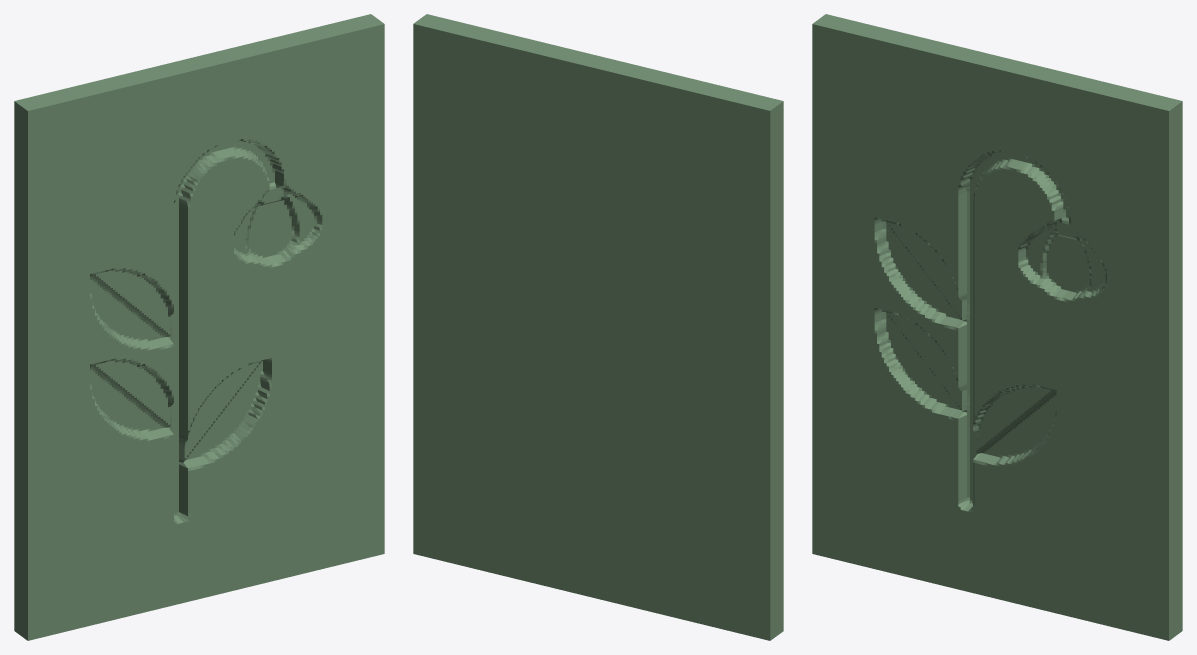
The model's file is snowdrop.glb.
The picture shows the model from 3 angles, left to right: view 1: azimuth 30°, elevation 25°; view 2: azimuth 150°, elevation 25°; view 3: azimuth 330°, elevation 25°; orthographic projection.
Visible parts, largest first — view 1: Plane.029; view 2: Plane.029; view 3: Plane.029.
Boxes of the visible parts, x1=… form: Plane.029: x1=14, y1=14, x2=384, y2=640; Plane.029: x1=413, y1=14, x2=783, y2=640; Plane.029: x1=812, y1=14, x2=1182, y2=640.
Size of the model in its own units: 4.1 by 5.82 by 0.27.
